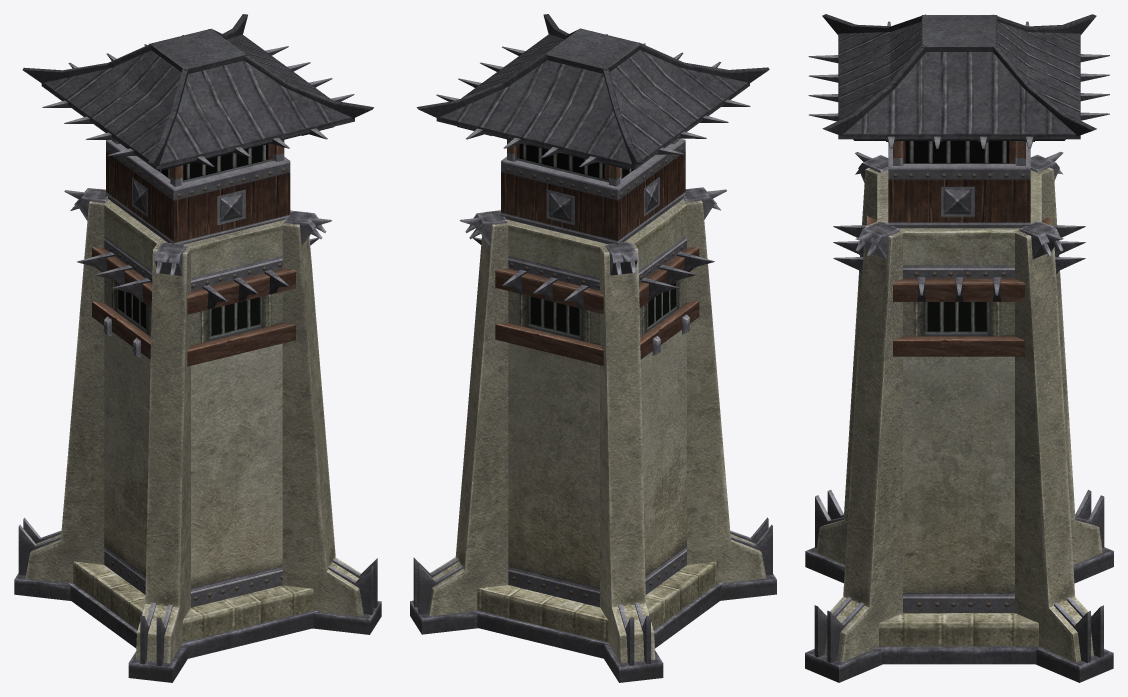
Rendered from 弓箭塔.fbx.
3 views of the same model, side by side, from view 1: azimuth 30°, elevation 25°; view 2: azimuth 150°, elevation 25°; view 3: azimuth 270°, elevation 25° (orthographic). The views are drawn at different scales.
Visible parts, largest first — view 1: ta_2:polySurface1; view 2: ta_2:polySurface1; view 3: ta_2:polySurface1.
Boxes of the visible parts, <box> form: ta_2:polySurface1: <box>14,14,381,682</box>; ta_2:polySurface1: <box>410,14,776,682</box>; ta_2:polySurface1: <box>805,14,1113,682</box>.
Bounding box in the file's own units: 8.03 × 16.86 × 8.03.
Materials: 1 (1 with a texture image).
